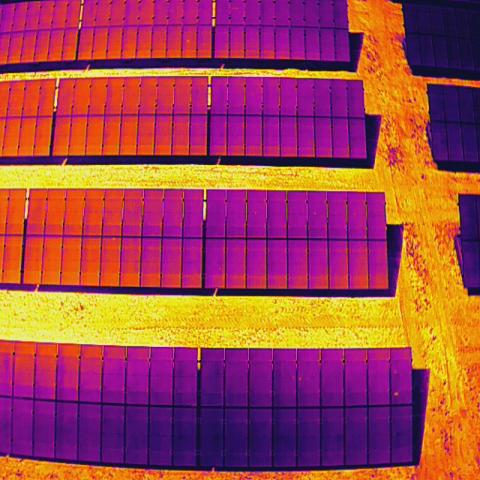fault: (392, 390, 400, 398), (186, 39, 190, 43)
